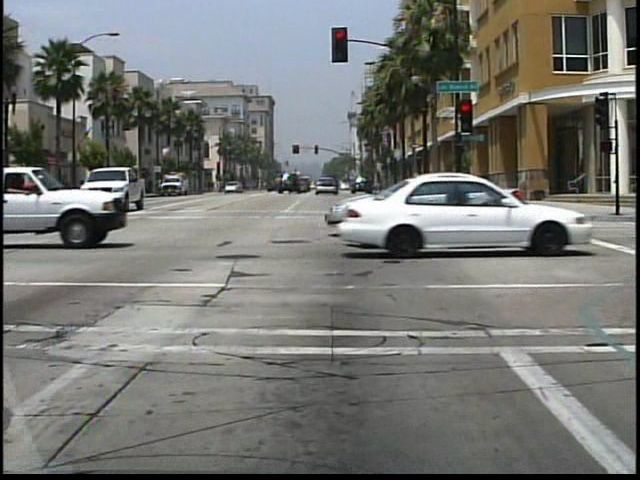person: (32, 169, 57, 216)
